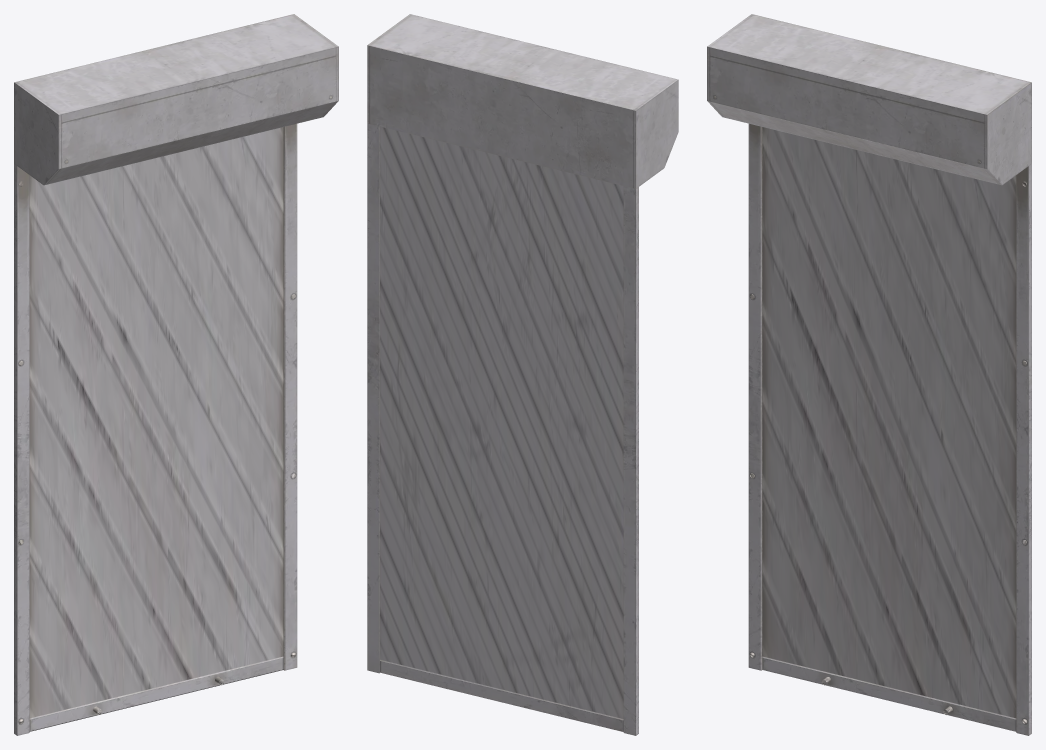
Rendered from rollershutter-door.glb.
The picture shows the model from 3 angles, left to right: view 1: azimuth 30°, elevation 25°; view 2: azimuth 150°, elevation 25°; view 3: azimuth 330°, elevation 25°; orthographic projection. The views are drawn at different scales.
Parts seen in each view (by area): view 1: rollershutter_door; view 2: rollershutter_door; view 3: rollershutter_door.
Part boxes in pixels (left/top/right/bottom): rollershutter_door: left=14, top=14, right=338, bottom=735; rollershutter_door: left=367, top=14, right=678, bottom=735; rollershutter_door: left=707, top=14, right=1031, bottom=735.
Size of the model in its own units: 1.08 by 2.4 by 0.2991.
Materials: 1 (1 with a texture image).
